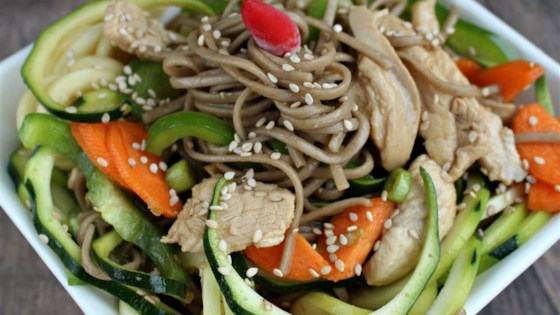Soba: (43, 1, 498, 294)
